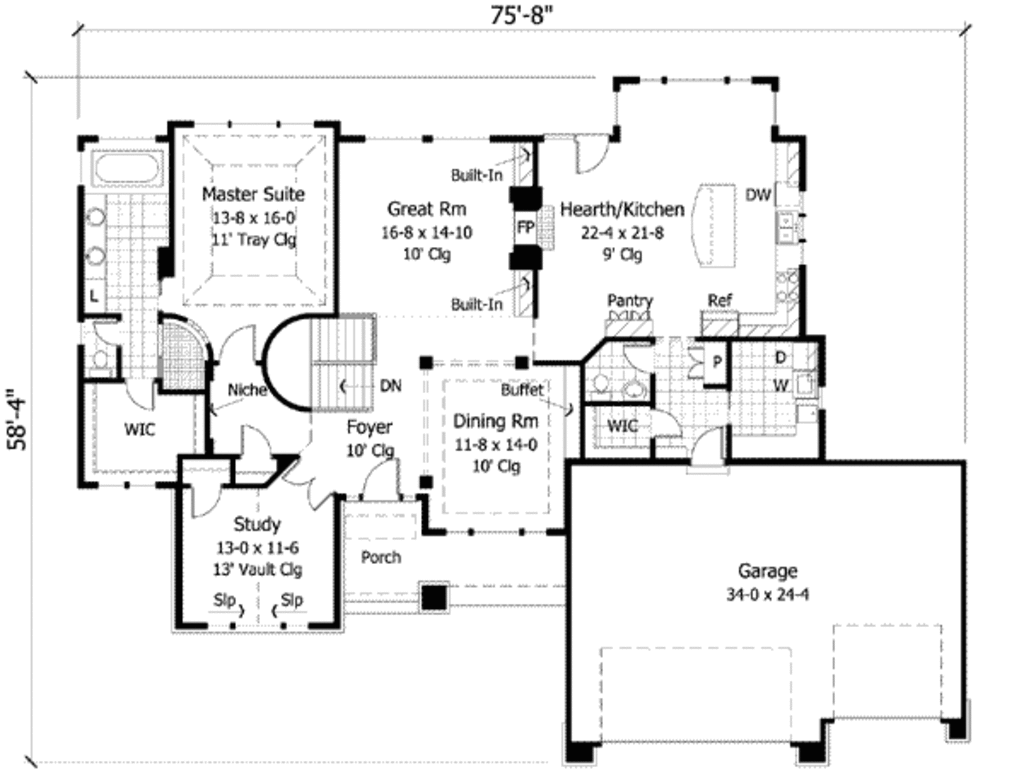door: (205, 316, 267, 362), (572, 124, 617, 184), (691, 416, 737, 472), (284, 461, 335, 510), (185, 480, 229, 532), (362, 455, 409, 503), (123, 378, 172, 417), (642, 404, 682, 445), (232, 421, 276, 455), (622, 341, 659, 380), (682, 336, 704, 391), (94, 318, 129, 352)
large_sink: (85, 347, 119, 377), (587, 368, 609, 404)
small_sink: (79, 207, 115, 283), (616, 379, 648, 402)
stairs: (279, 311, 385, 414)
tub: (80, 139, 166, 195)
twin_sink: (757, 195, 806, 248)
window: (200, 115, 312, 132), (365, 134, 488, 148)
